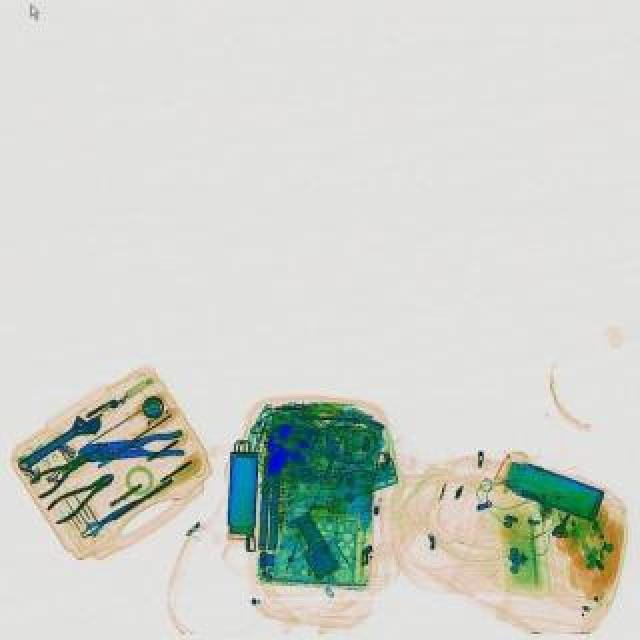knife: (74, 490, 142, 542)
scissors: (10, 406, 106, 476)
wrench: (24, 434, 108, 498), (42, 462, 122, 524), (76, 426, 184, 464)
